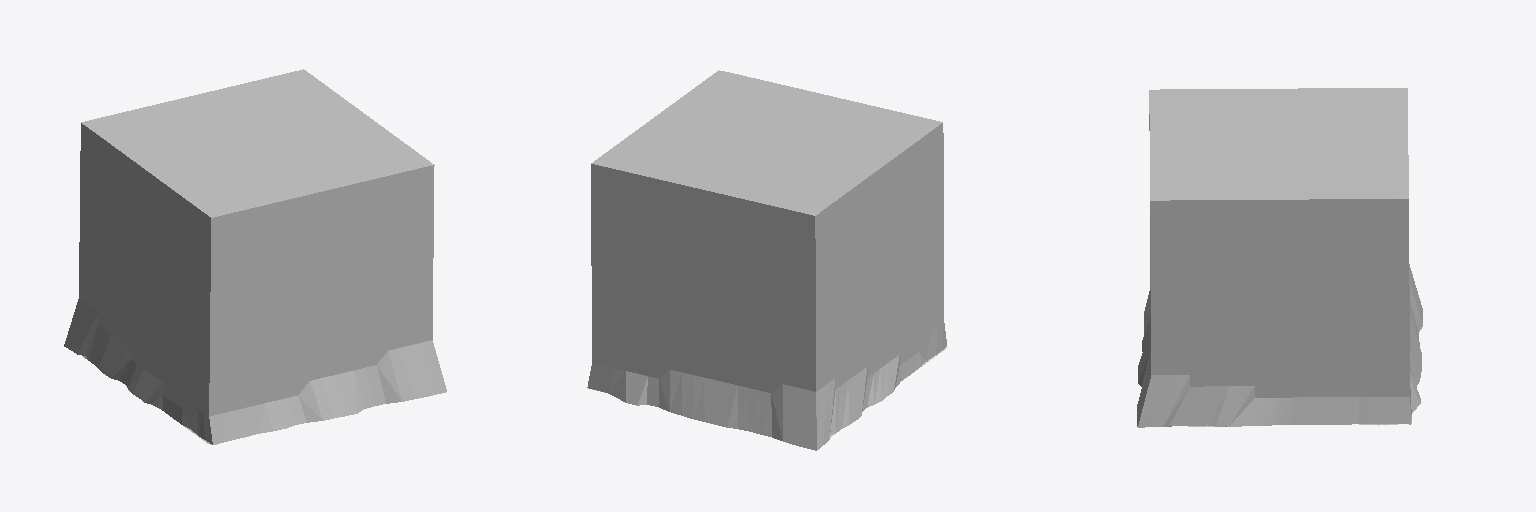
The model's file is mod0133.obj.
The picture shows the model from 3 angles: view 1: azimuth 30°, elevation 25°; view 2: azimuth 150°, elevation 25°; view 3: azimuth 270°, elevation 25°; orthographic projection.
Parts seen in each view (by area): view 1: Box001; view 2: Box001; view 3: Box001.
Part boxes in pixels (left/top/right/bottom): Box001: left=64, top=69, right=446, bottom=444; Box001: left=587, top=70, right=946, bottom=450; Box001: left=1137, top=88, right=1422, bottom=427.
Bounding box in the file's own units: 0.5799 × 0.524 × 0.5979.